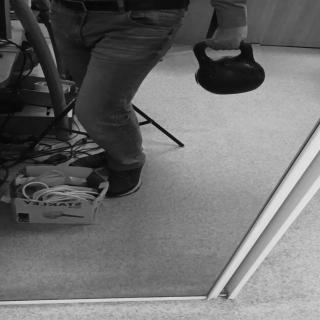kettlebell: (194, 39, 268, 96)
